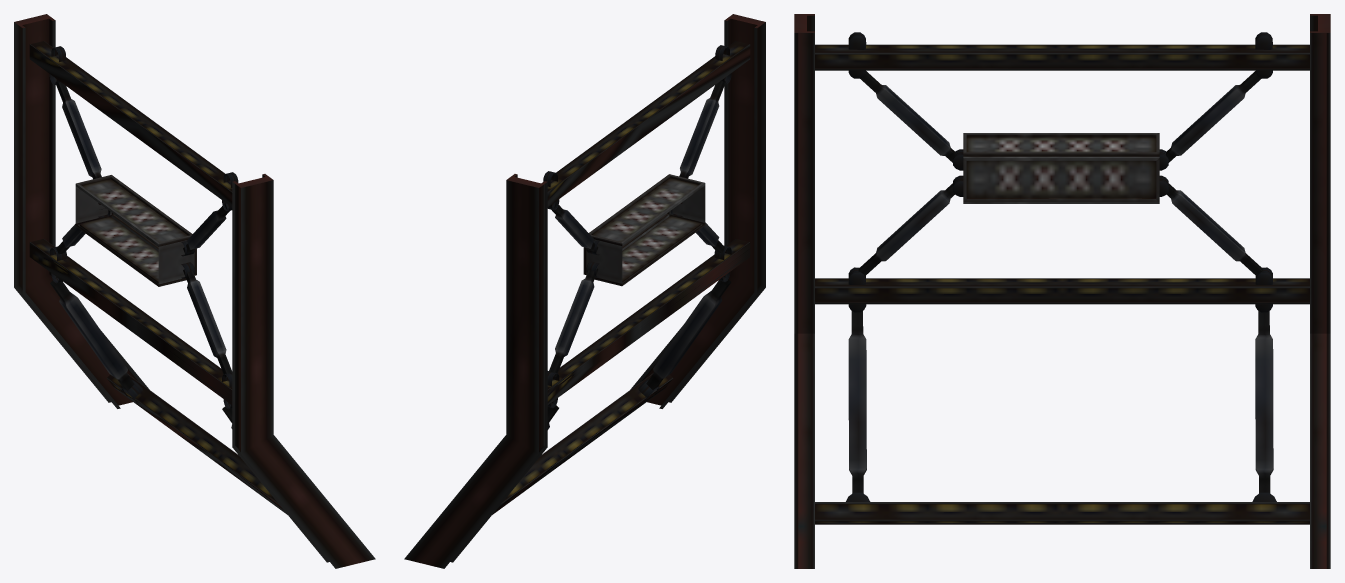
Rendered from Beam_07.FBX.
The picture shows the model from 3 angles, left to right: view 1: azimuth 30°, elevation 25°; view 2: azimuth 150°, elevation 25°; view 3: azimuth 270°, elevation 25°; orthographic projection. The views are drawn at different scales.
Visible parts, largest first — view 1: Beam_07; view 2: Beam_07; view 3: Beam_07.
Boxes of the visible parts, <box> form: Beam_07: <box>14,14,375,568</box>; Beam_07: <box>404,14,765,568</box>; Beam_07: <box>794,14,1330,568</box>.
Bounding box in the file's own units: 111 × 295 × 300.
